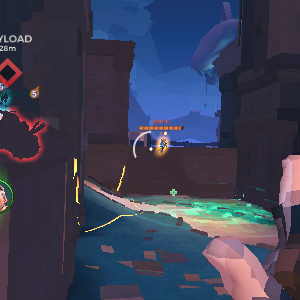model: (157, 136, 171, 155)
